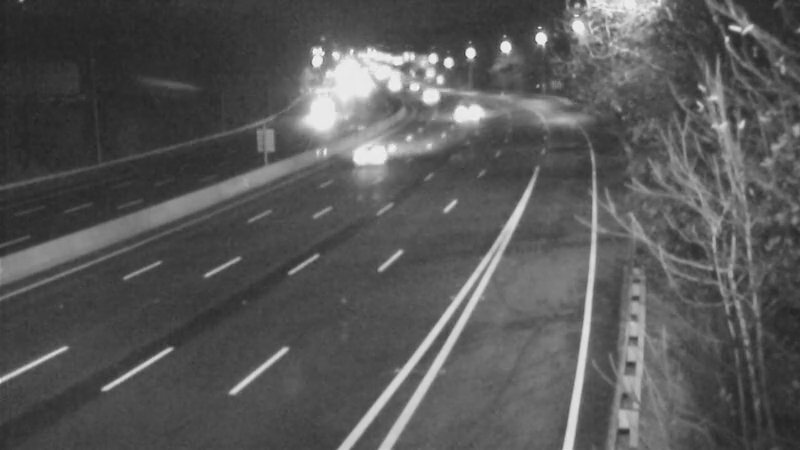vehicle: (335, 114, 415, 194), (407, 70, 457, 120), (444, 83, 494, 133), (296, 87, 346, 137)
